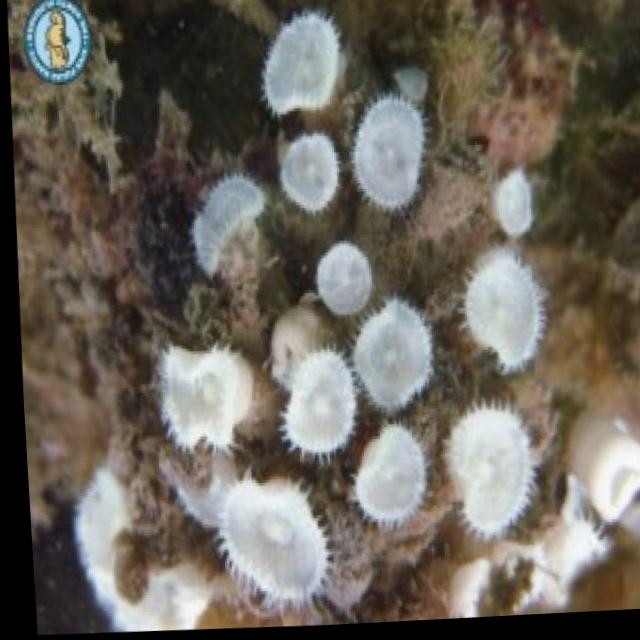Bleached Coral: (432, 177, 564, 576), (253, 244, 430, 541), (236, 13, 431, 213), (41, 483, 187, 636), (186, 466, 333, 617), (557, 406, 640, 553)
